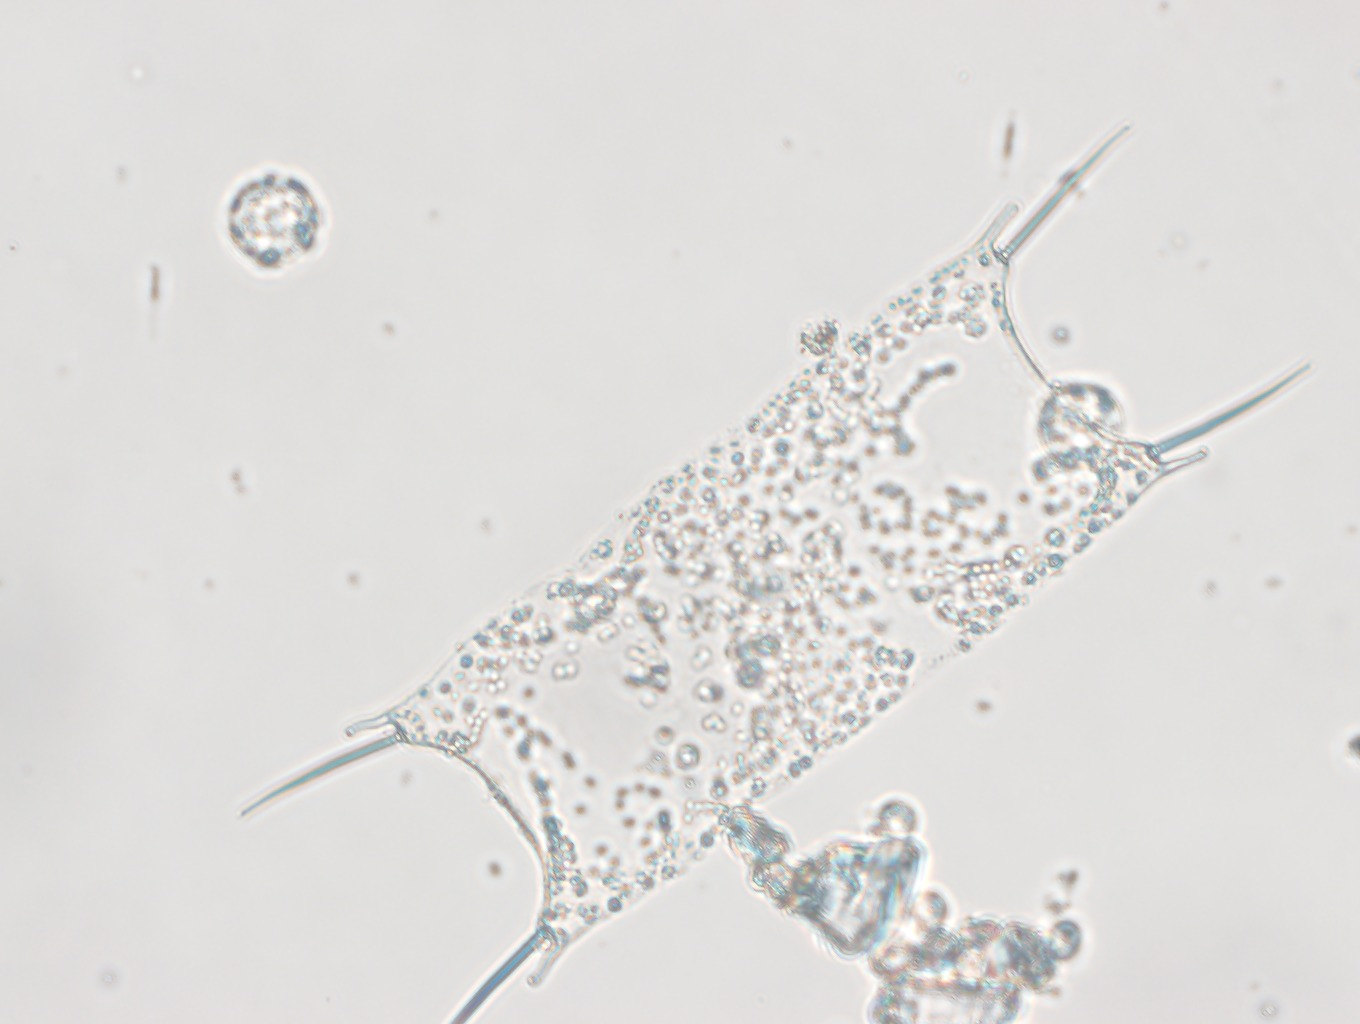biddulphia: (240, 119, 1309, 1024)
